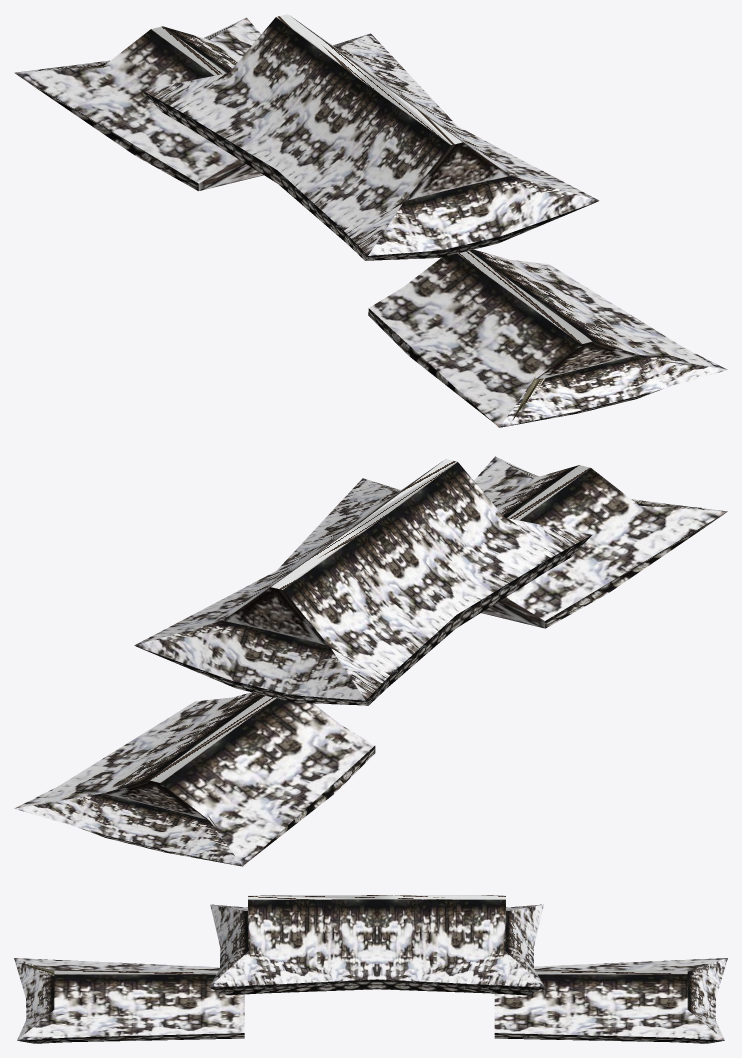
The picture shows the model from 3 angles, top to bottom: view 1: azimuth 30°, elevation 25°; view 2: azimuth 150°, elevation 25°; view 3: azimuth 270°, elevation 25°; orthographic projection. The views are drawn at different scales.
Parts seen in each view (by area): view 1: Box49; view 2: Box49; view 3: Box49.
Part boxes in pixels (x1=…): Box49: x1=14, y1=14, x2=727, y2=427; Box49: x1=14, y1=456, x2=727, y2=866; Box49: x1=14, y1=895, x2=727, y2=1043.
Bounding box in the file's own units: 72.49 × 46.08 × 262.
